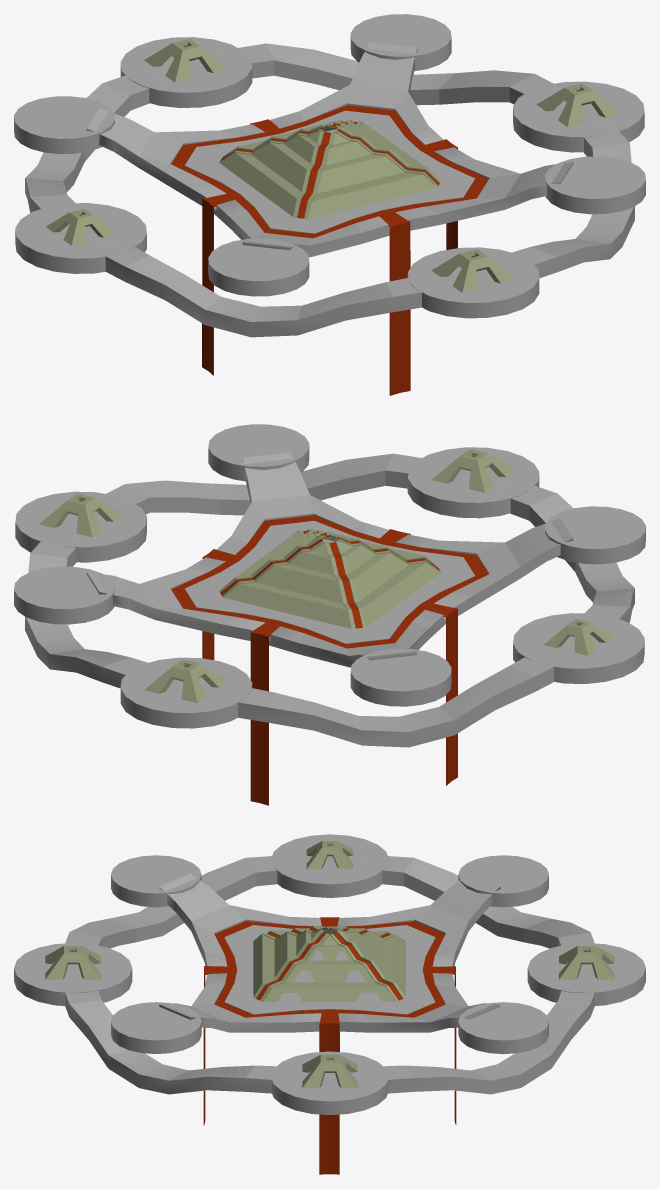
Rendered from LevelIteration2.fbx.
The picture shows the model from 3 angles, top to bottom: view 1: azimuth 30°, elevation 25°; view 2: azimuth 150°, elevation 25°; view 3: azimuth 270°, elevation 25°; orthographic projection. The views are drawn at different scales.
Visible parts, largest first — view 1: polySurface10, polySurface2, polySurface3, polySurface1, pCylinder7, pCylinder8, pCylinder9, pCylinder6, pCylinder3, pCylinder2, pCylinder4, pCylinder5 (+5 smaller); view 2: polySurface10, polySurface2, polySurface3, polySurface1, pCylinder7, pCylinder9, pCylinder8, pCylinder6, pCylinder4, pCylinder5, pCylinder3, pCylinder2 (+5 smaller); view 3: polySurface10, polySurface2, polySurface3, polySurface1, pCylinder7, pCylinder6, pCylinder9, pCylinder8, pCylinder2, pCylinder5, pCylinder4, pCylinder3 (+5 smaller).
Part boxes in pixels (left/top/right/bottom): polySurface10: left=25, top=43, right=634, bottom=337; polySurface2: left=86, top=42, right=573, bottom=257; polySurface3: left=219, top=119, right=441, bottom=219; polySurface1: left=171, top=105, right=488, bottom=395; pCylinder7: left=15, top=203, right=146, bottom=273; pCylinder8: left=407, top=247, right=539, bottom=318; pCylinder9: left=120, top=37, right=252, bottom=107; pCylinder6: left=513, top=81, right=644, bottom=152; pCylinder3: left=208, top=238, right=309, bottom=296; pCylinder2: left=545, top=156, right=645, bottom=214; pCylinder4: left=14, top=96, right=114, bottom=154; pCylinder5: left=350, top=14, right=451, bottom=71; polySurface10: left=25, top=453, right=634, bottom=747; polySurface2: left=86, top=452, right=573, bottom=667; polySurface3: left=219, top=528, right=441, bottom=628; polySurface1: left=171, top=515, right=488, bottom=805; pCylinder7: left=513, top=613, right=644, bottom=683; pCylinder9: left=120, top=657, right=252, bottom=728; pCylinder8: left=407, top=447, right=539, bottom=518; pCylinder6: left=15, top=491, right=146, bottom=562; pCylinder4: left=350, top=648, right=451, bottom=706; pCylinder5: left=14, top=566, right=114, bottom=624; pCylinder3: left=545, top=506, right=645, bottom=564; pCylinder2: left=208, top=424, right=309, bottom=481; polySurface10: left=61, top=854, right=598, bottom=1094; polySurface2: left=159, top=873, right=500, bottom=1032; polySurface3: left=253, top=926, right=405, bottom=1001; polySurface1: left=203, top=917, right=456, bottom=1174; pCylinder7: left=271, top=834, right=388, bottom=897; pCylinder6: left=271, top=1051, right=388, bottom=1114; pCylinder9: left=527, top=943, right=645, bottom=1005; pCylinder8: left=14, top=943, right=132, bottom=1005; pCylinder2: left=111, top=1002, right=201, bottom=1053; pCylinder5: left=458, top=1002, right=548, bottom=1054; pCylinder4: left=458, top=855, right=548, bottom=907; pCylinder3: left=111, top=855, right=201, bottom=907.
Bounding box in the file's own units: 83.67 × 27.8 × 83.67.
